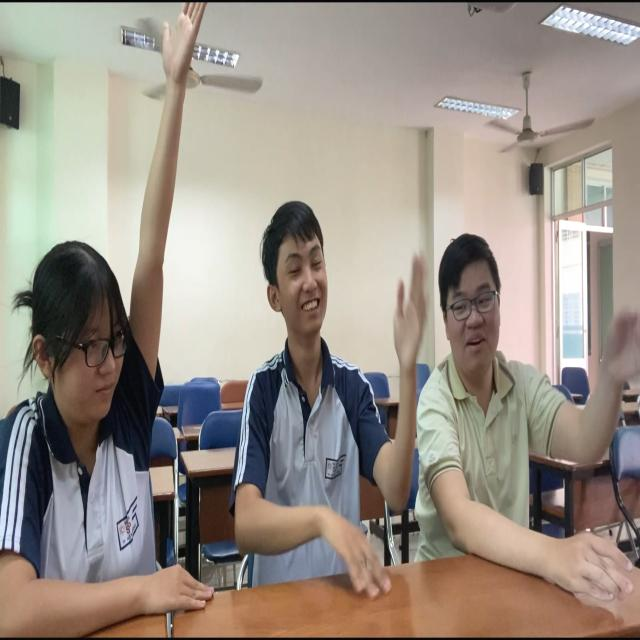raise_hand: (1, 1, 230, 638), (235, 194, 433, 619)
